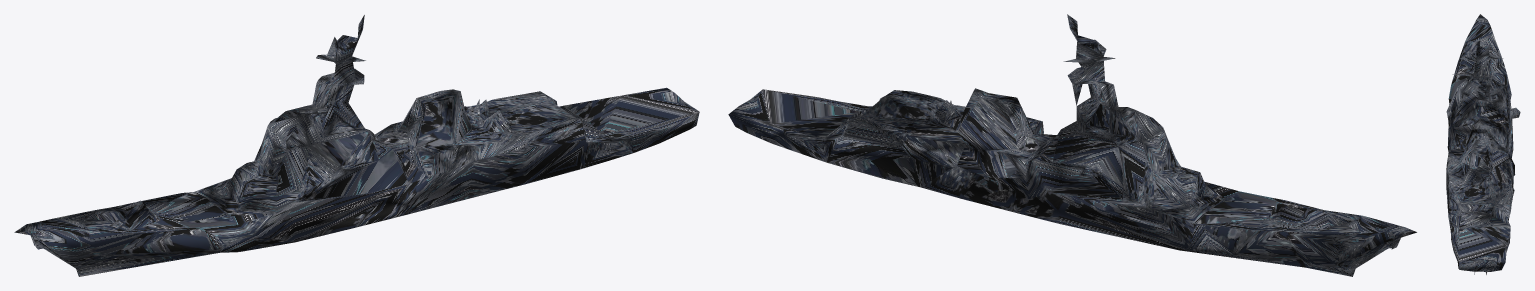
File: arleigh-burke-destroyer-meshy-ultra-v1.glb
3 views of the same model, side by side, from view 1: azimuth 30°, elevation 25°; view 2: azimuth 150°, elevation 25°; view 3: azimuth 270°, elevation 25° (orthographic). The views are drawn at different scales.
Bounding box in the file's own units: 1.9 × 0.5276 × 0.2629.
1 material, 1 textured.
